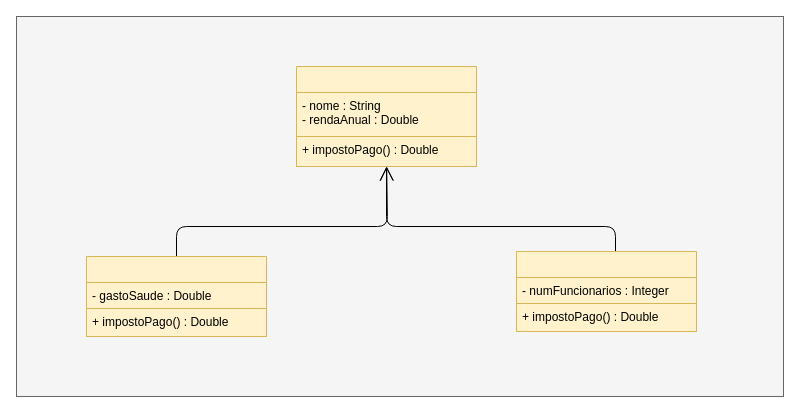
The diagram is 800 pixels wide and 413 high, and some of its shapes have lost their labels. Here are the shapes that lost their labels. From the top down, the box of each, then its label:
(296, 66, 476, 166): Contribuinte
(86, 256, 266, 336): PessoaFisica
(516, 250, 696, 332): PessoaJuridica
